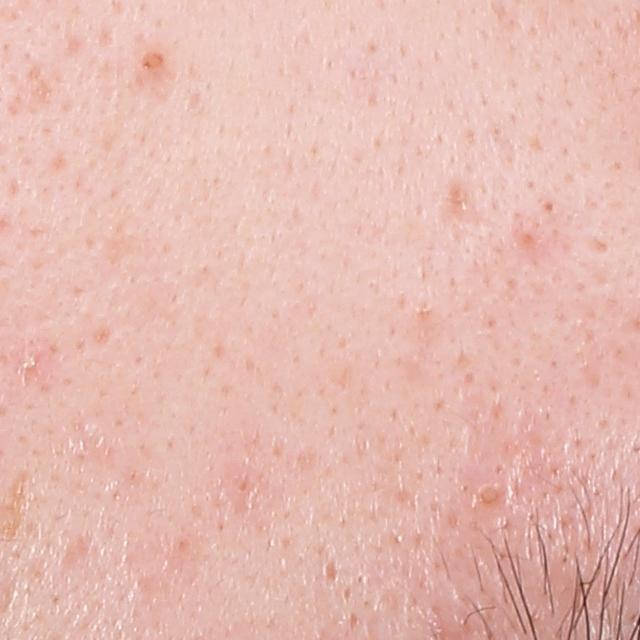atrophic_scar: (4, 64, 56, 119), (323, 557, 340, 582)
comedo: (137, 47, 166, 77), (478, 484, 504, 507), (540, 199, 561, 220)
